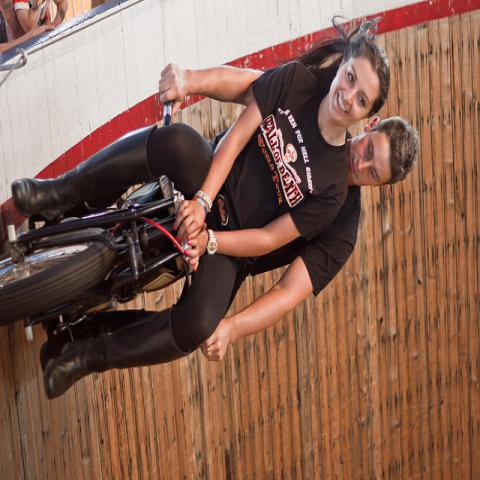motorcycle: (0, 106, 197, 342)
